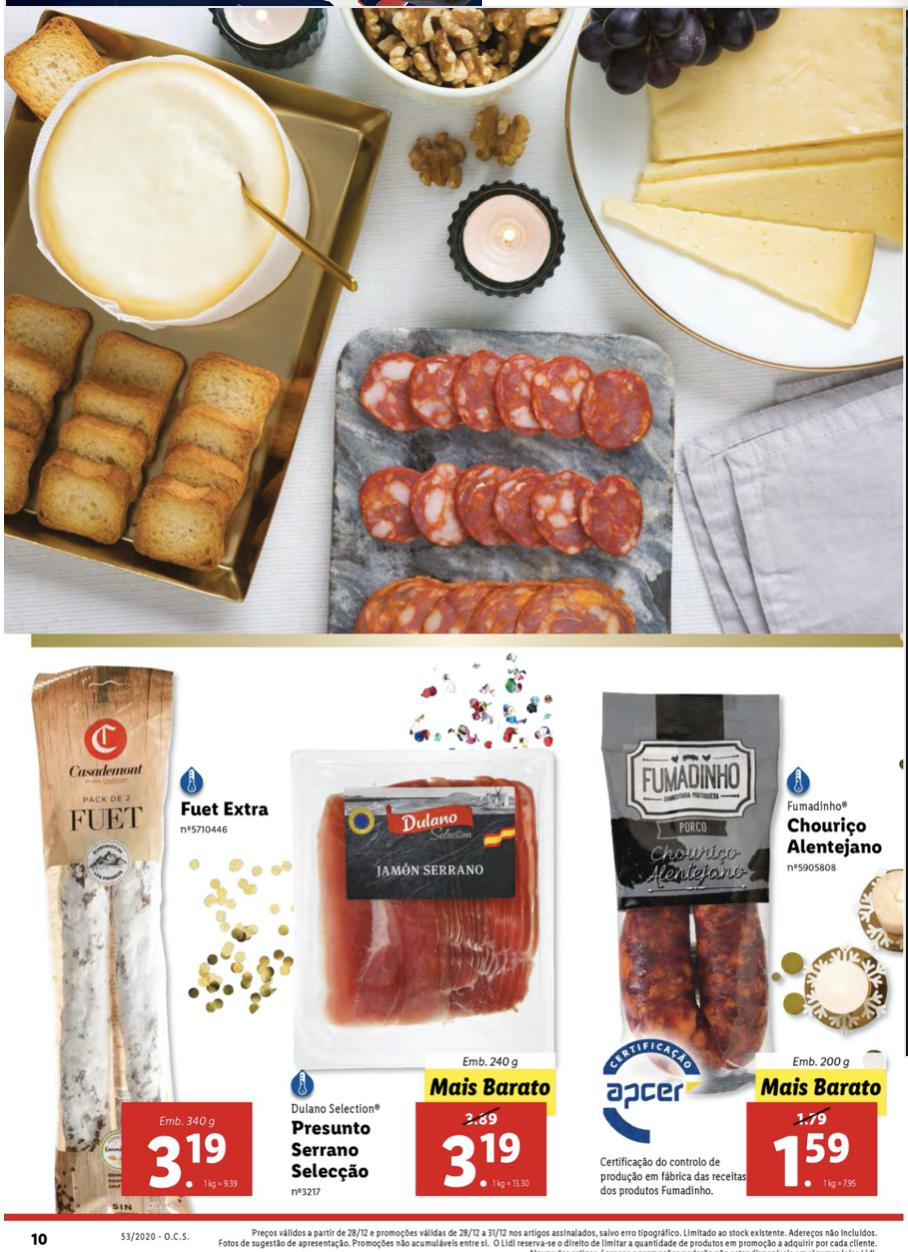name: (289, 1116, 375, 1184), (785, 812, 883, 858), (177, 795, 271, 822)
price: (432, 1127, 533, 1195), (138, 1128, 239, 1192), (769, 1125, 863, 1192)
product: (596, 684, 891, 1222), (274, 717, 575, 1216), (30, 658, 291, 1212)
